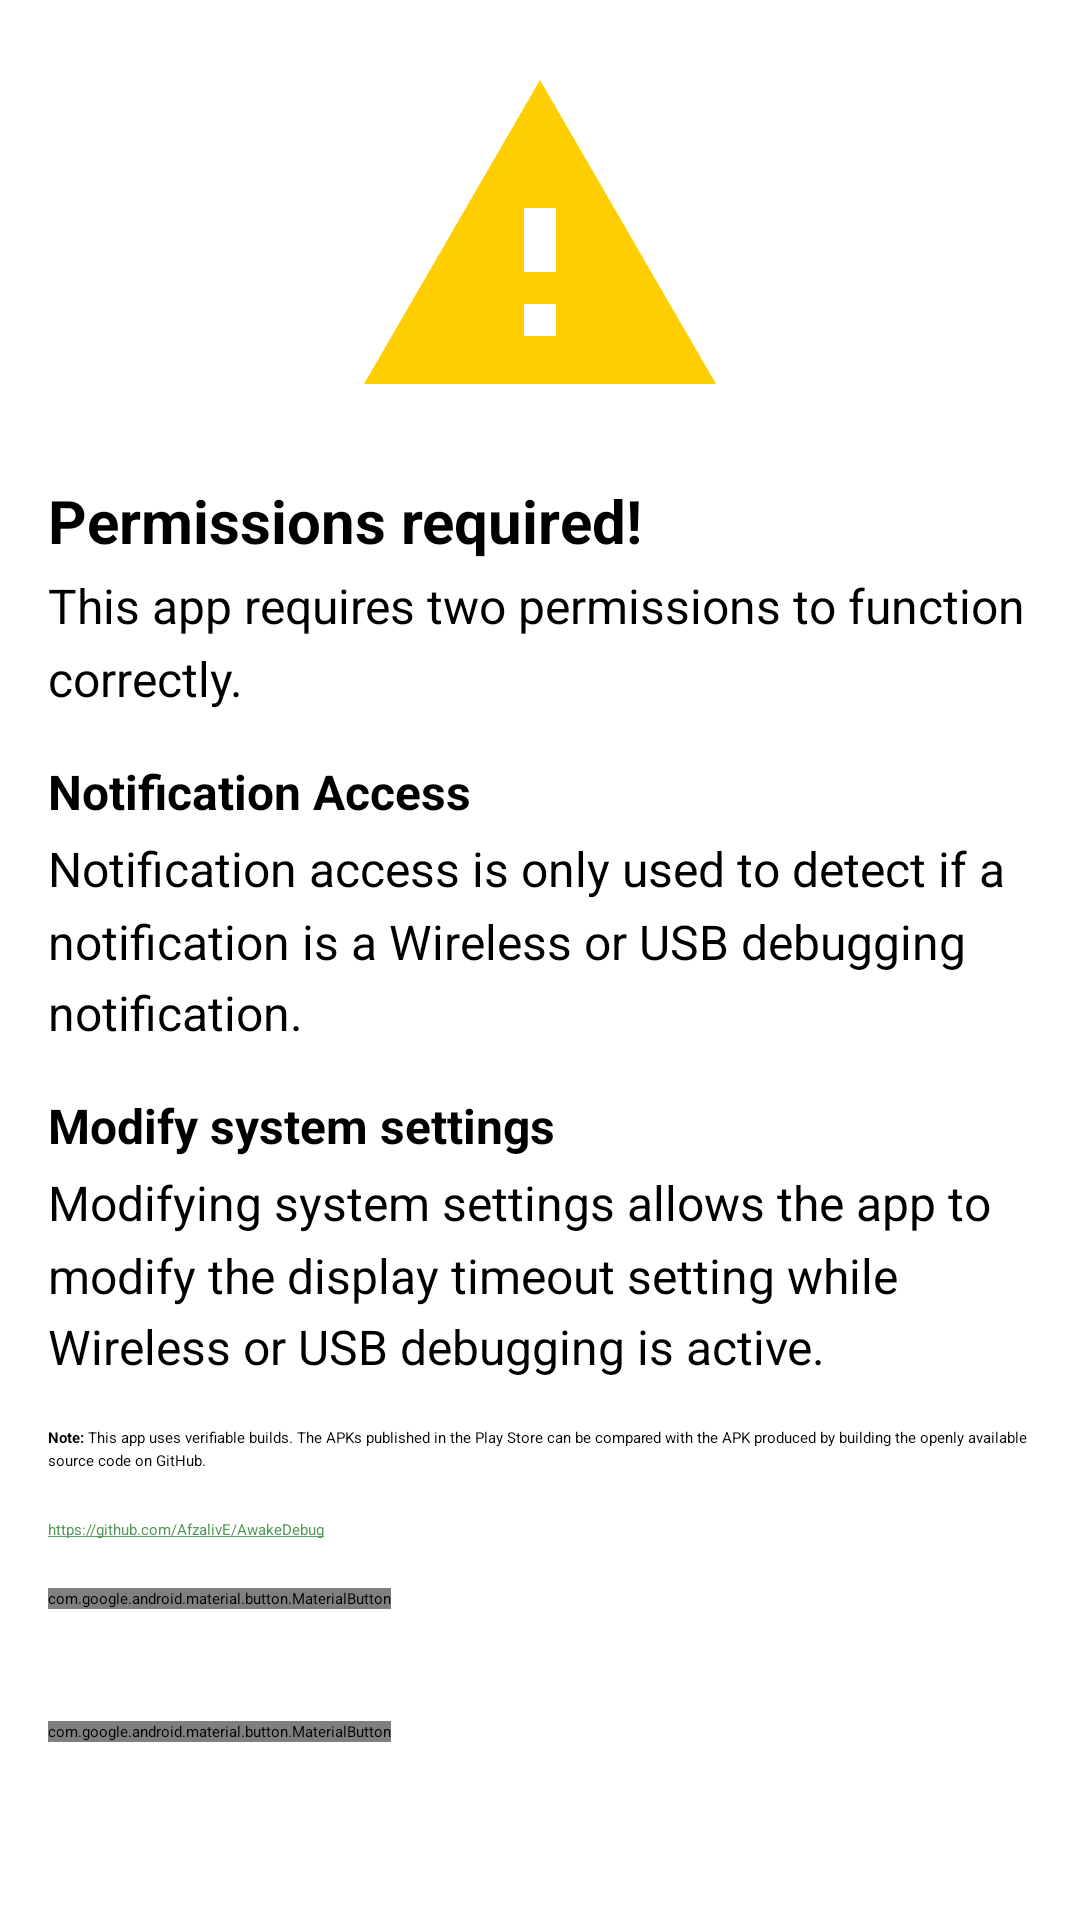

Screen size 1080*1920. Icon name, then its center in pixels as [x,y]:
warning: [540,232]
